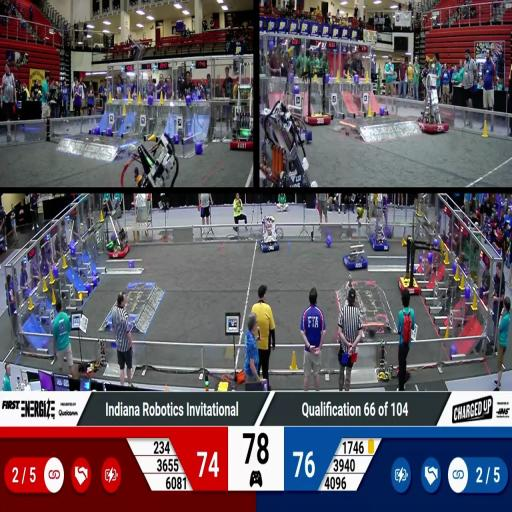robot: (261, 100, 312, 184), (399, 232, 444, 298), (123, 135, 178, 187), (227, 61, 255, 153), (418, 68, 450, 137), (303, 61, 336, 125), (102, 208, 132, 259), (279, 100, 314, 143), (256, 214, 281, 256), (340, 242, 369, 272), (370, 214, 390, 252)
